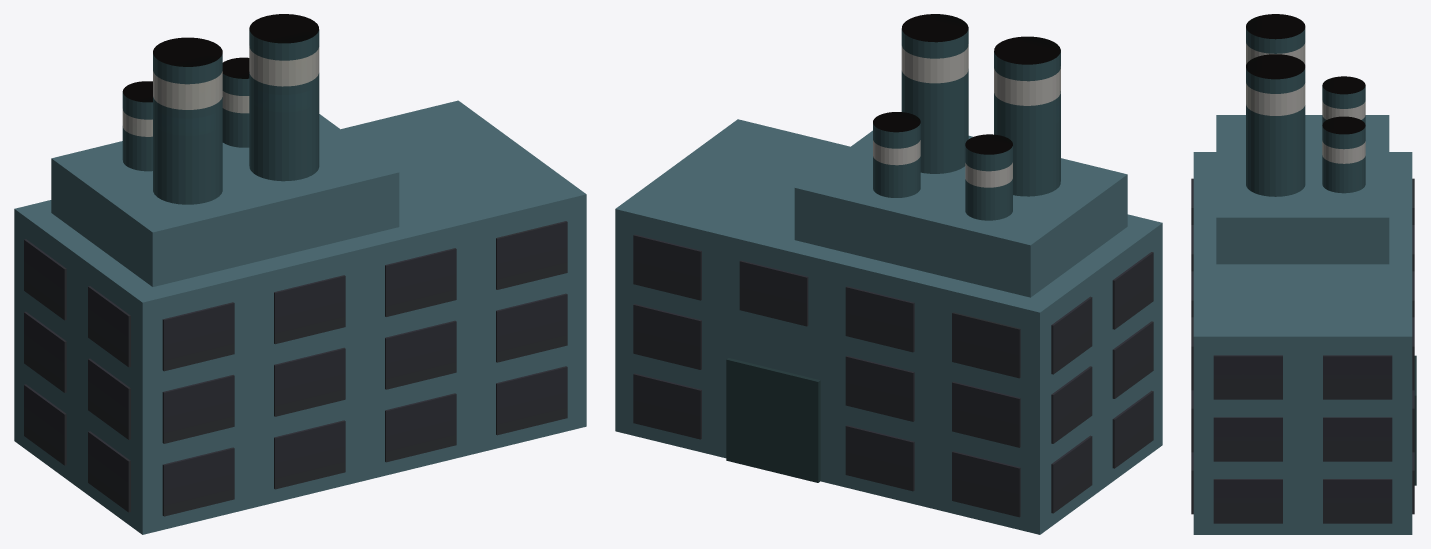
File: factory upgraded.fbx
3 views of the same model, side by side, from view 1: azimuth 30°, elevation 25°; view 2: azimuth 150°, elevation 25°; view 3: azimuth 270°, elevation 25° (orthographic). The views are drawn at different scales.
Visible parts, largest first — view 1: Cube; view 2: Cube; view 3: Cube.
Part boxes in pixels (left/top/right/bottom): Cube: left=14, top=14, right=586, bottom=534; Cube: left=615, top=14, right=1162, bottom=534; Cube: left=1191, top=14, right=1416, bottom=534.
Size of the model in its own units: 1616 by 1463 by 823.
1 material, 1 textured.
